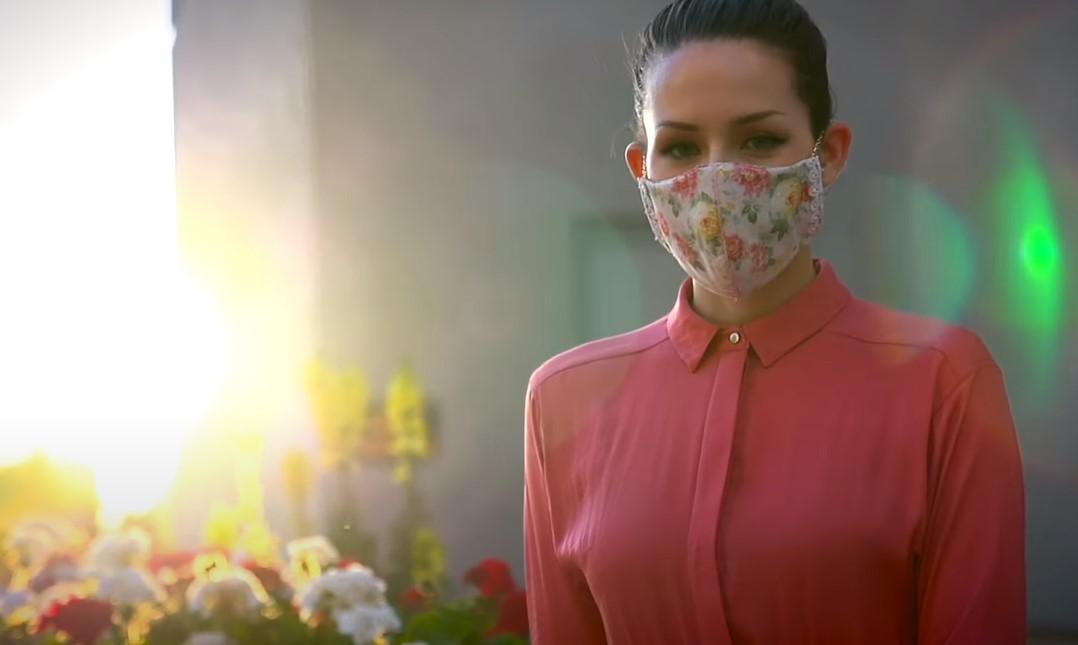face_with_mask: (622, 3, 852, 305)
